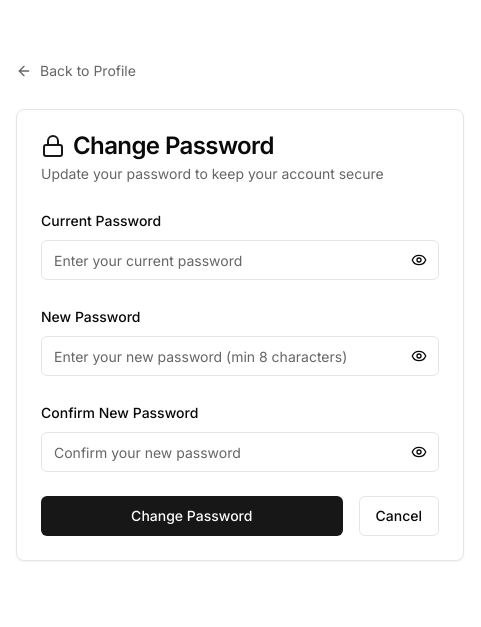
Scenario: tells the user they are signed out and sends them to sign in, then back to their profile
In the password field labelled "Current Password": (240, 260) [41,240,439,280], type "old-password-1"
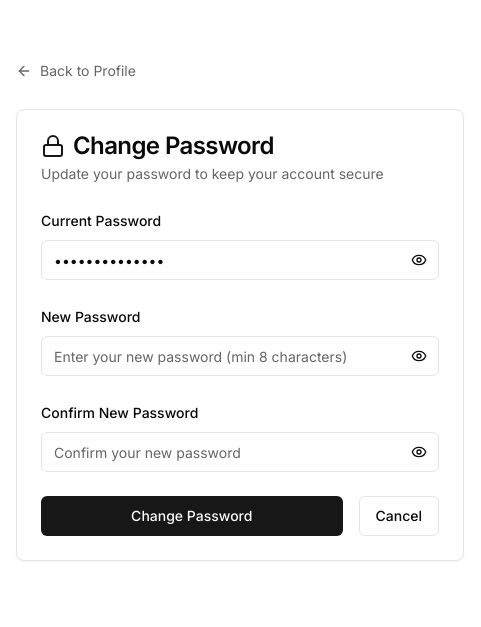
In the password field labelled "New Password": (240, 356) [41,336,439,376], type "new-password-1"
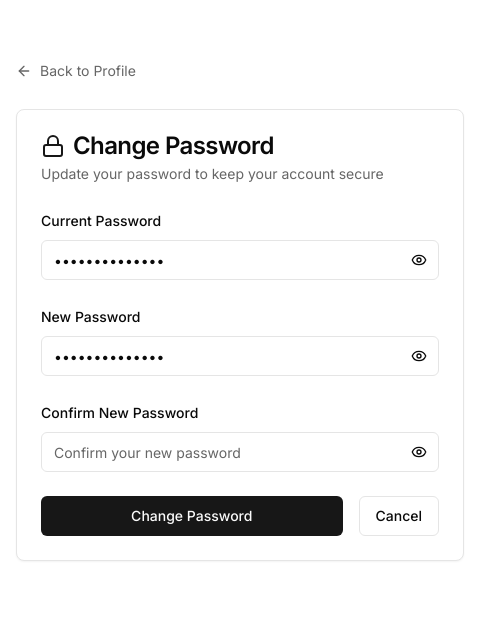
In the password field labelled "Confirm New Password": (240, 452) [41,432,439,472], type "new-password-1"
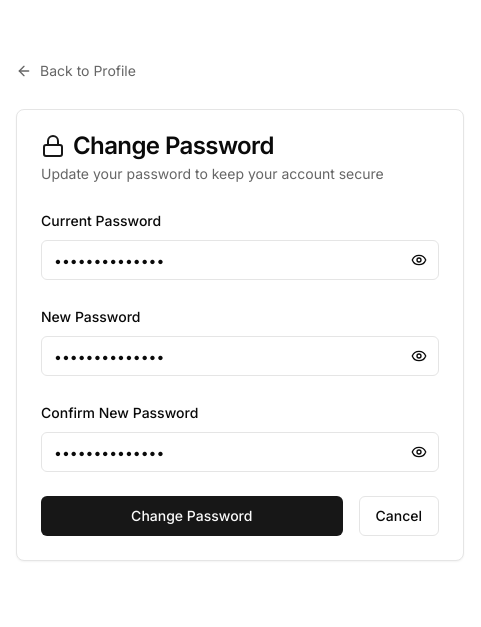
Click the button "Change Password": (192, 516) [41,496,342,536]
Wait 3000 ms
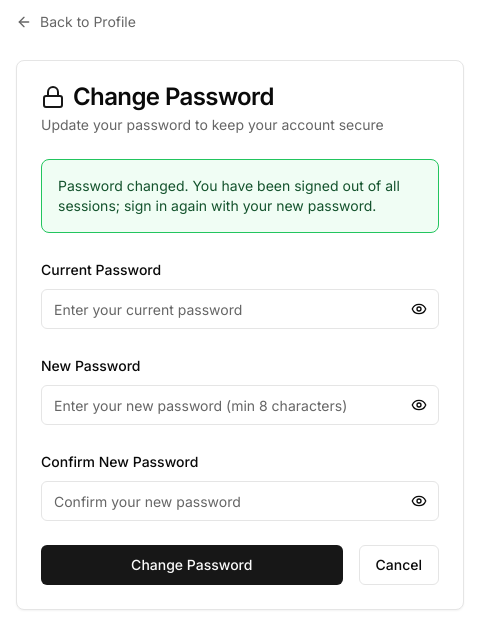
Result: the text "signed out" is shown at [58,177,400,214]
